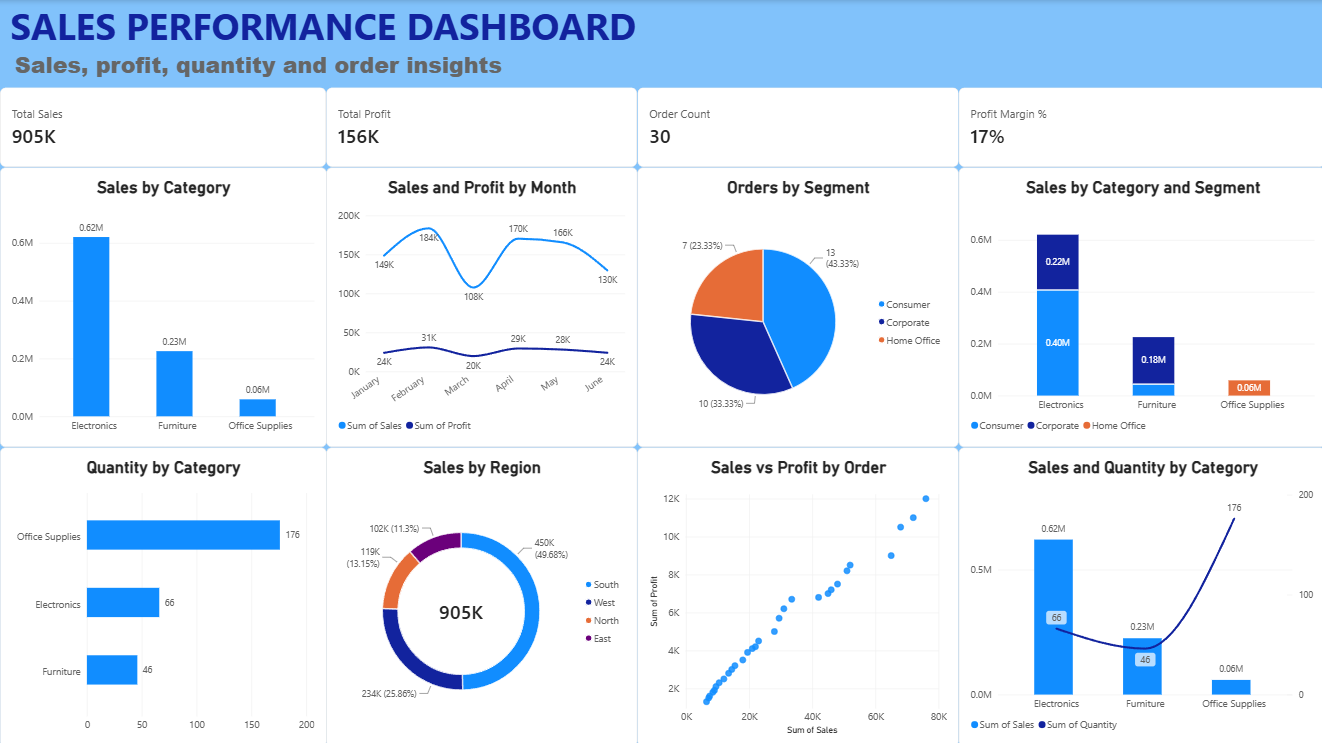

The page's visual inventory and layout, read from the dashboard file:
{"tool":"powerbi","page":{"name":"Page 6","canvas":[1920,1080],"ordinal":5},"visuals":[{"type":"clusteredColumnChart","title":"Sales by Category","fields":{"Category":["Dataset.Category"],"Y":["Sum(Dataset.Sales)"]},"box":[0,242.5,472.5,405],"z":0},{"type":"columnChart","title":"Sales by Category and Segment","fields":{"Category":["Dataset.Category"],"Series":["Dataset.Segment"],"Y":["Sum(Dataset.Sales)"]},"box":[1387.5,242.5,532.5,405],"z":1000},{"type":"donutChart","title":"Sales by Region","fields":{"Category":["Dataset.Region"],"Y":["Sum(Dataset.Sales)"]},"box":[472.5,647.5,450,432.5],"z":2000},{"type":"pieChart","title":"Orders by Segment","fields":{"Category":["Dataset.Segment"],"Y":["CountNonNull(Dataset.Order_ID)"]},"box":[922.5,242.5,465,405],"z":3000},{"type":"scatterChart","title":"Sales vs Profit by Order","fields":{"Category":["Dataset.Order_ID"],"X":["Sum(Dataset.Sales)"],"Y":["Sum(Dataset.Profit)"]},"box":[922.5,647.5,465,432.5],"z":4000},{"type":"lineChart","title":"Sales and Profit by Month","fields":{"Category":["Dataset.Date.Variation.Date Hierarchy.Month"],"Y":["Sum(Dataset.Sales)","Sum(Dataset.Profit)"]},"box":[472.5,242.5,450,405],"z":5000},{"type":"barChart","title":"Quantity by Category","fields":{"Category":["Dataset.Category"],"Y":["Sum(Dataset.Quantity)"]},"box":[0,647.5,472.5,432.5],"z":6000},{"type":"lineStackedColumnComboChart","title":"Sales and Quantity by Category","fields":{"Category":["Dataset.Category"],"Y":["Sum(Dataset.Sales)"],"Y2":["Sum(Dataset.Quantity)"]},"box":[1387.5,647.5,532.5,432.5],"z":7000},{"type":"cardVisual","fields":{"Data":["Dataset.Total Sales"]},"box":[0,127.5,472.5,115],"z":8000},{"type":"cardVisual","fields":{"Data":["Dataset.Order Count"]},"box":[922.5,127.5,465,115],"z":9000},{"type":"cardVisual","fields":{"Data":["Dataset.Total Profit"]},"box":[472.5,127.5,450,115],"z":10000},{"type":"cardVisual","fields":{"Data":["Dataset.Profit Margin %"]},"box":[1387.5,127.5,532.5,115],"z":11000},{"type":"textbox","box":[0,0,1022.5,150],"z":12000}]}

Visuals, with their boxes in screenshot pixels (x1, y1, x2, y2), scaled from the page's 1920x1080 canvas onto the 1322x743 screenshot:
"Sales by Category" clusteredColumnChart: left=0, top=167, right=325, bottom=445
"Sales by Category and Segment" columnChart: left=955, top=167, right=1321, bottom=445
"Sales by Region" donutChart: left=325, top=445, right=635, bottom=742
"Orders by Segment" pieChart: left=635, top=167, right=955, bottom=445
"Sales vs Profit by Order" scatterChart: left=635, top=445, right=955, bottom=742
"Sales and Profit by Month" lineChart: left=325, top=167, right=635, bottom=445
"Quantity by Category" barChart: left=0, top=445, right=325, bottom=742
"Sales and Quantity by Category" lineStackedColumnComboChart: left=955, top=445, right=1321, bottom=742
cardVisual - Dataset.Total Sales: left=0, top=88, right=325, bottom=167
cardVisual - Dataset.Order Count: left=635, top=88, right=955, bottom=167
cardVisual - Dataset.Total Profit: left=325, top=88, right=635, bottom=167
cardVisual - Dataset.Profit Margin %: left=955, top=88, right=1321, bottom=167
textbox: left=0, top=0, right=704, bottom=103
